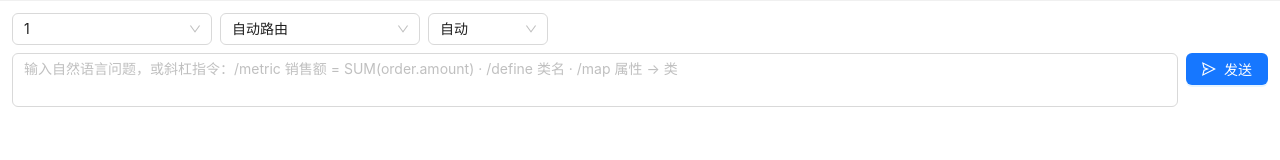
Test case: ChatPanel 相似问题建议 › 输入停顿后（防抖）请求相似问法并渲染 chips，点击回填输入框
In the text box with placeholder "输入自然语言问题": (595, 80) [12,53,1178,107], type "各供应商"
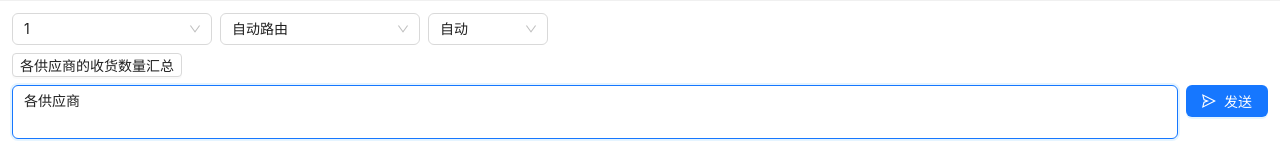
Click the button "各供应商的收货数量汇总": (97, 65) [12,53,182,77]
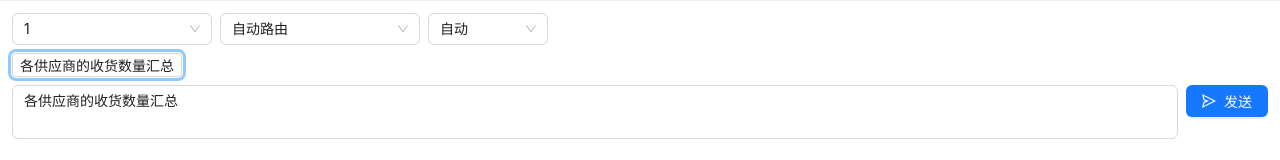
Result: the text box with placeholder "输入自然语言问题" holds "各供应商的收货数量汇总" at [12,85,1178,139]
